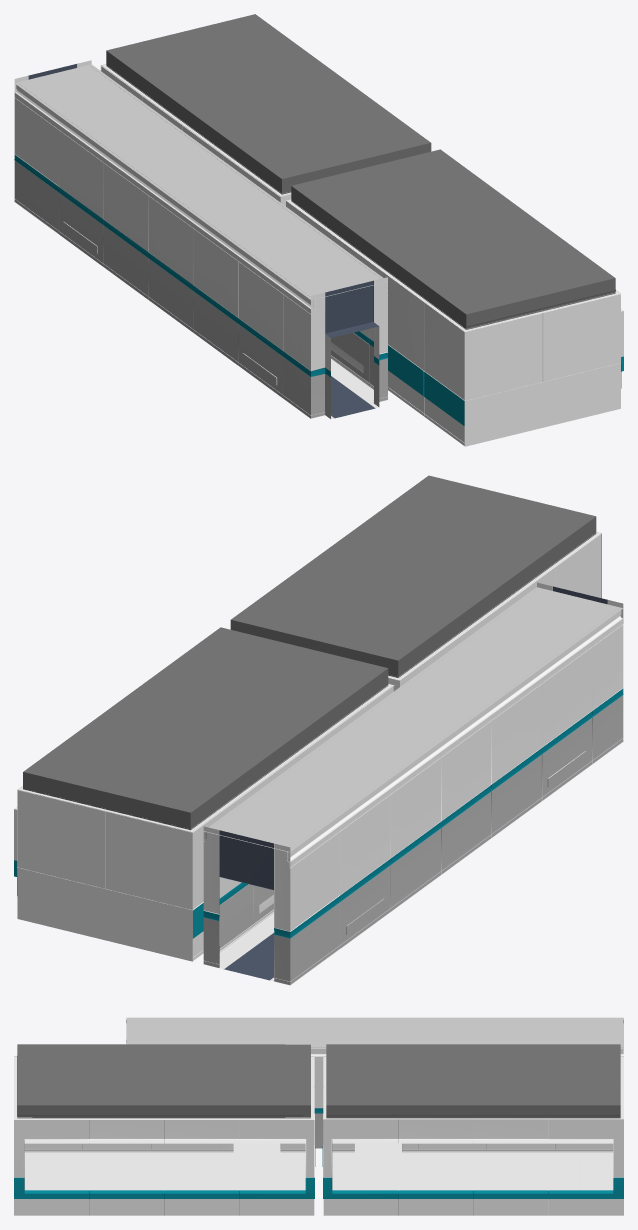
3 renders of one model, top to bottom at view 1: azimuth 30°, elevation 25°; view 2: azimuth 150°, elevation 25°; view 3: azimuth 270°, elevation 25°, orthographic. The views are drawn at different scales.
Parts seen in each view (by area): view 1: SM_H_Building_FutureTech_HLight_01_InterWall_05; view 2: SM_H_Building_FutureTech_HLight_01_InterWall_05; view 3: SM_H_Building_FutureTech_HLight_01_InterWall_05.
Boxes of the visible parts, x1,y1,x2,y2 form: SM_H_Building_FutureTech_HLight_01_InterWall_05: (14,14,623,446); SM_H_Building_FutureTech_HLight_01_InterWall_05: (14,475,623,985); SM_H_Building_FutureTech_HLight_01_InterWall_05: (14,1017,623,1215).
Bounding box in the file's own units: 750 × 300 × 148.
